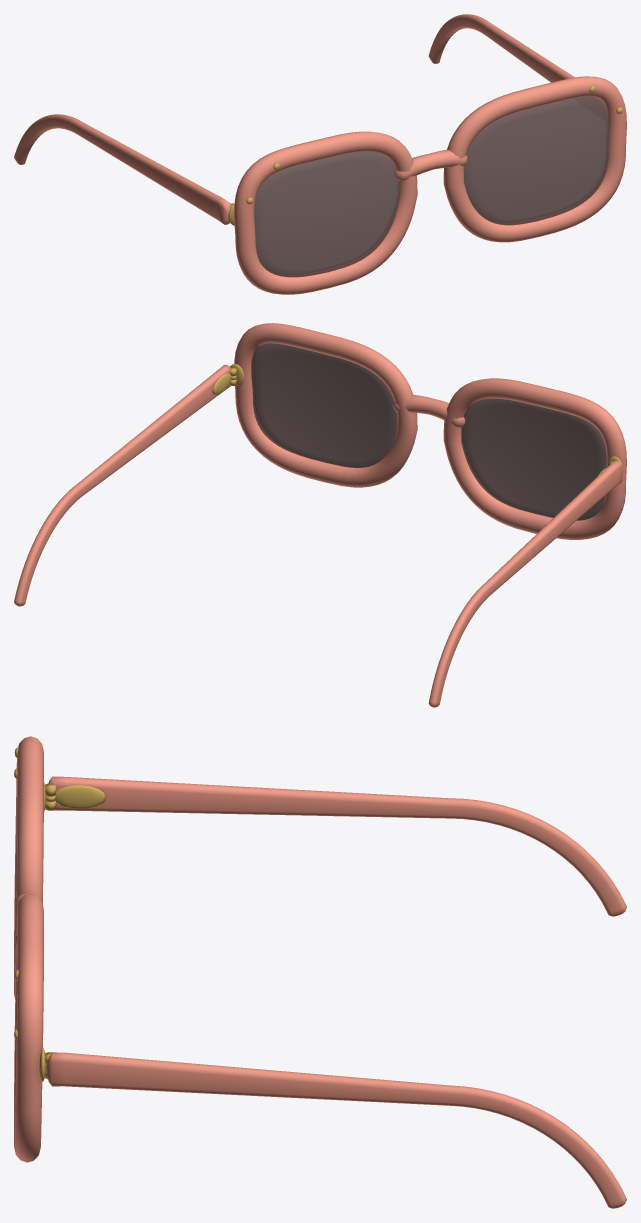
File: shades_aviator.glb
The picture shows the model from 3 angles, top to bottom: view 1: azimuth 30°, elevation 25°; view 2: azimuth 150°, elevation 25°; view 3: azimuth 270°, elevation 25°; orthographic projection. The views are drawn at different scales.
Visible parts, largest first — view 1: sunglasses_body, sunglasses_lens_l, sunglasses_lens_r, sunglasses_temple_l, sunglasses_temple_r; view 2: sunglasses_body, sunglasses_lens_r, sunglasses_lens_l, sunglasses_temple_r, sunglasses_temple_l; view 3: sunglasses_temple_r, sunglasses_temple_l, sunglasses_body.
Boxes of the visible parts, x1=… form: sunglasses_body: x1=228, y1=76, x2=626, y2=294; sunglasses_lens_l: x1=254, y1=151, x2=400, y2=277; sunglasses_lens_r: x1=464, y1=96, x2=609, y2=225; sunglasses_temple_l: x1=14, y1=114, x2=230, y2=224; sunglasses_temple_r: x1=428, y1=14, x2=574, y2=82; sunglasses_body: x1=230, y1=323, x2=626, y2=539; sunglasses_lens_r: x1=251, y1=343, x2=397, y2=467; sunglasses_lens_l: x1=461, y1=398, x2=606, y2=520; sunglasses_temple_r: x1=14, y1=364, x2=236, y2=606; sunglasses_temple_l: x1=428, y1=460, x2=622, y2=707; sunglasses_temple_r: x1=45, y1=1052, x2=626, y2=1208; sunglasses_temple_l: x1=46, y1=776, x2=626, y2=916; sunglasses_body: x1=14, y1=736, x2=55, y2=1162.
Size of the model in its own units: 0.15 by 0.0504 by 0.1307.
4 materials, 3 textured.
